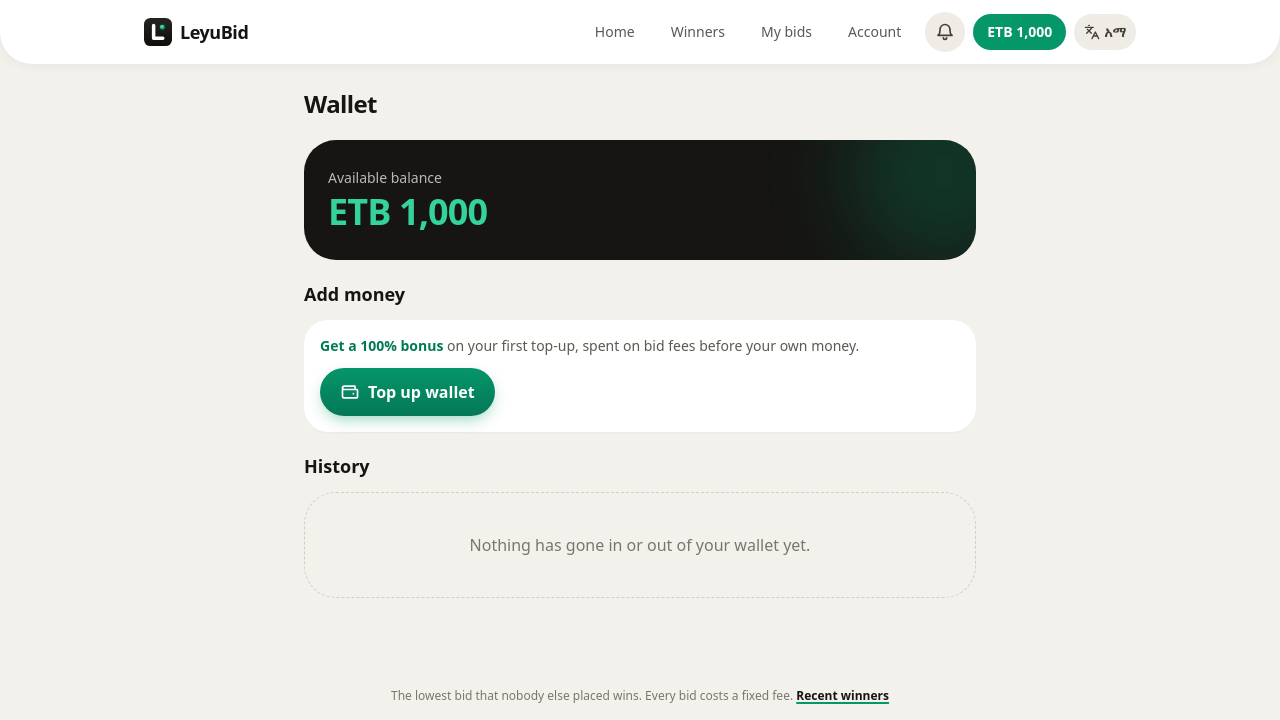
Test: adding money on the wallet page › does not ask the server for 5
Click the button "Top up wallet": x=407, y=392 [320, 368, 495, 416]
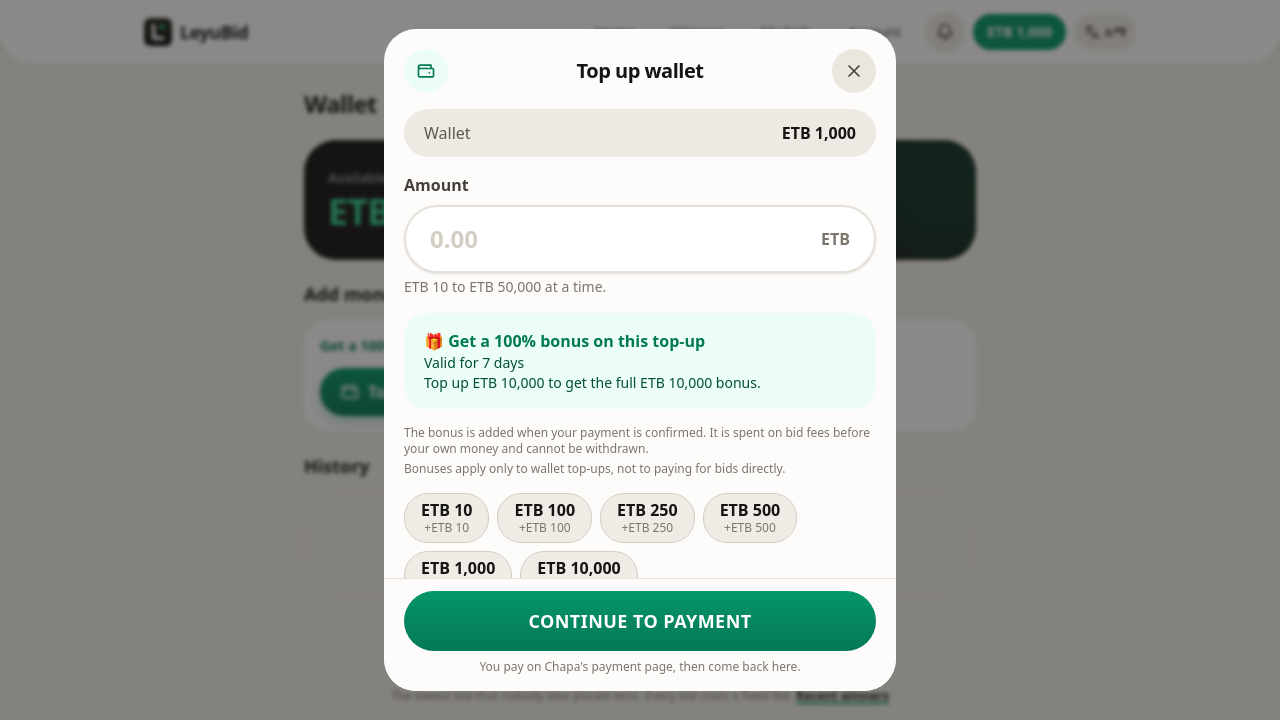
In the field labelled "Amount": x=622, y=239 [430, 207, 813, 271], type "5"
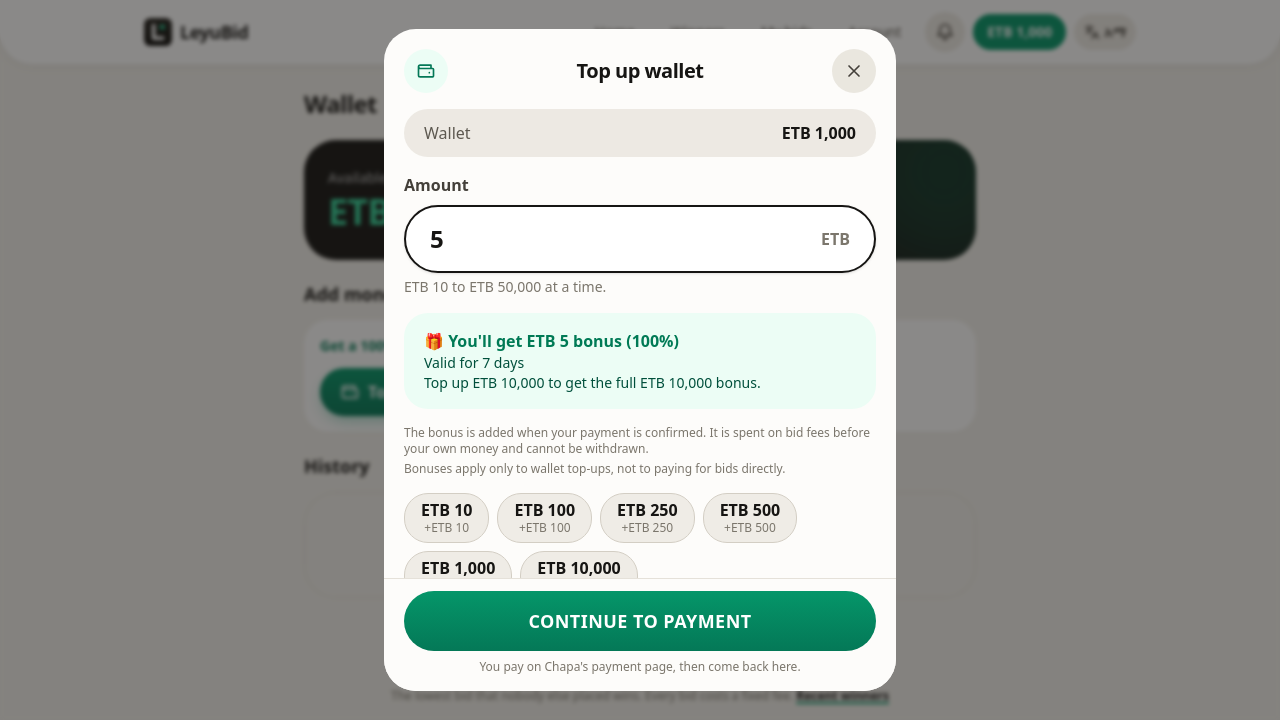
Click the button "Continue to payment": x=640, y=621 [404, 591, 876, 651]
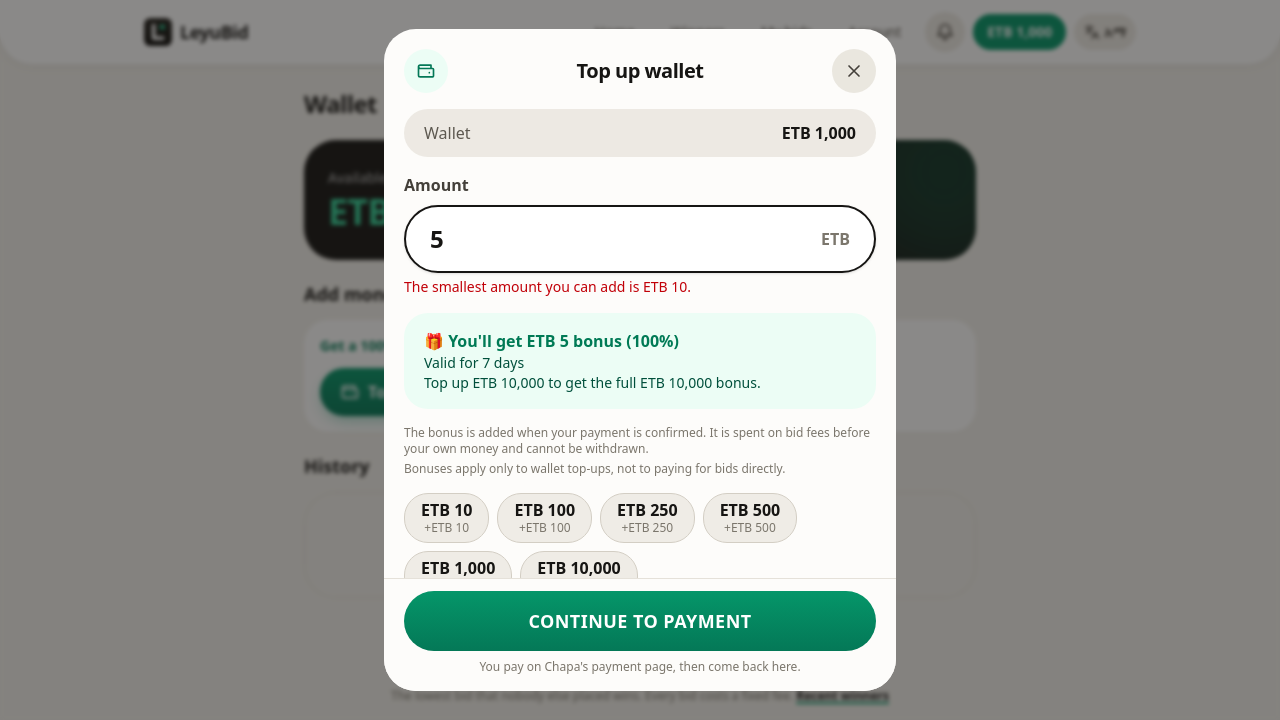
Now the text "The smallest amount you can add is ETB 10." is shown, box [404, 277, 691, 296]
